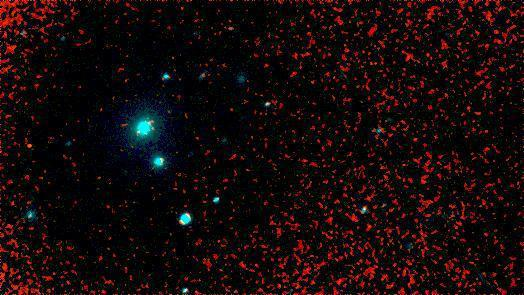star: (14, 132, 44, 162)
